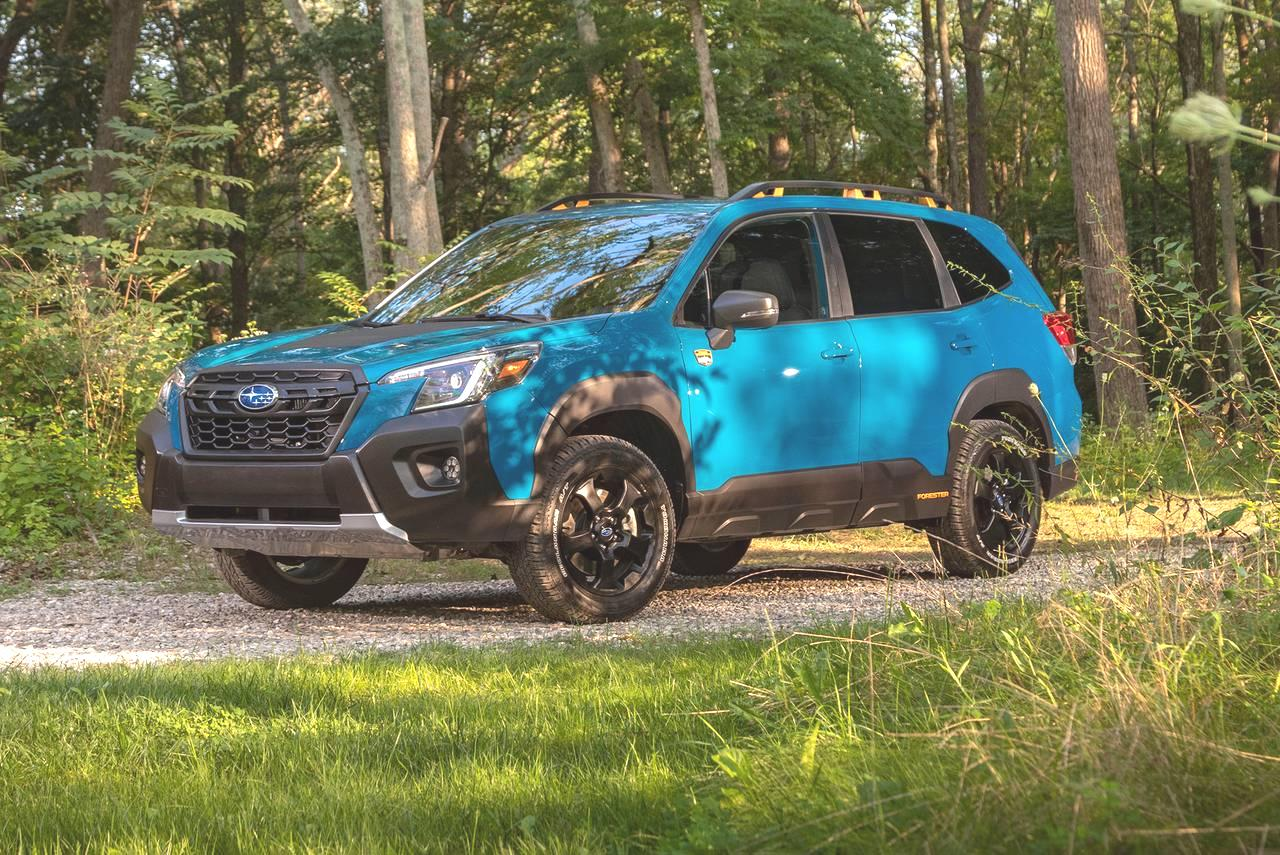subaru: (225, 370, 301, 422)
